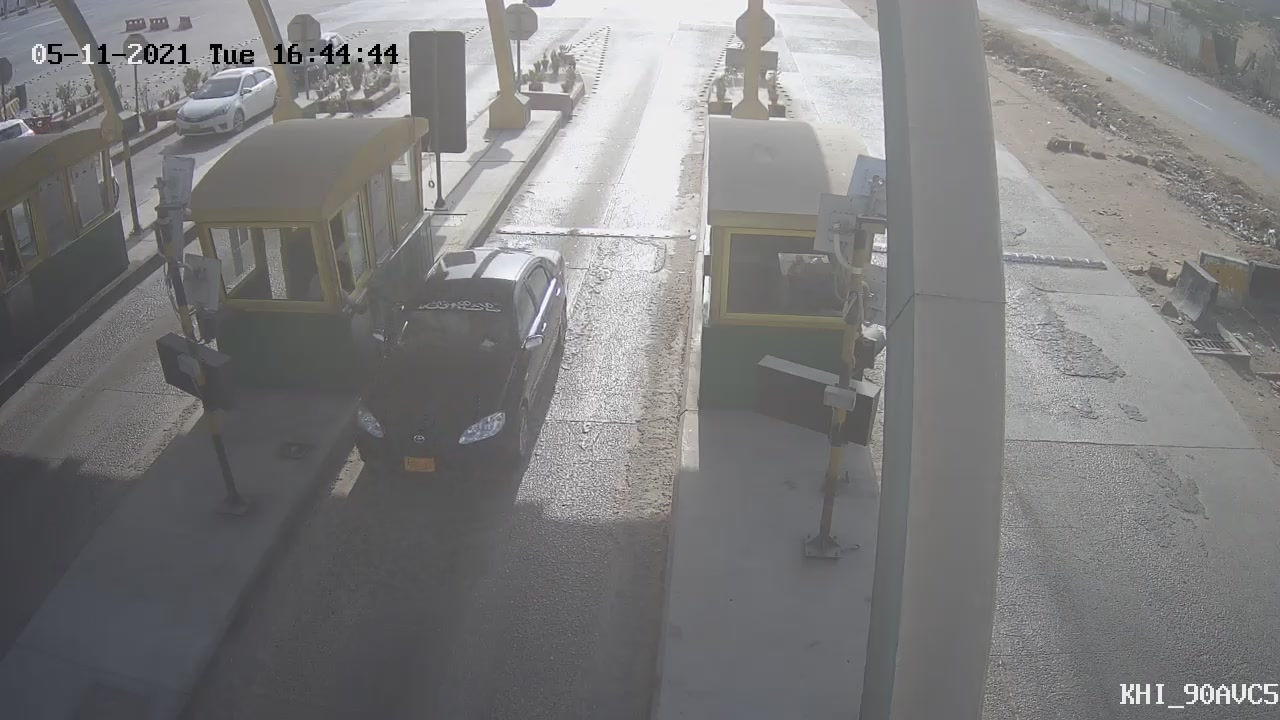F1: (339, 233, 587, 494)
